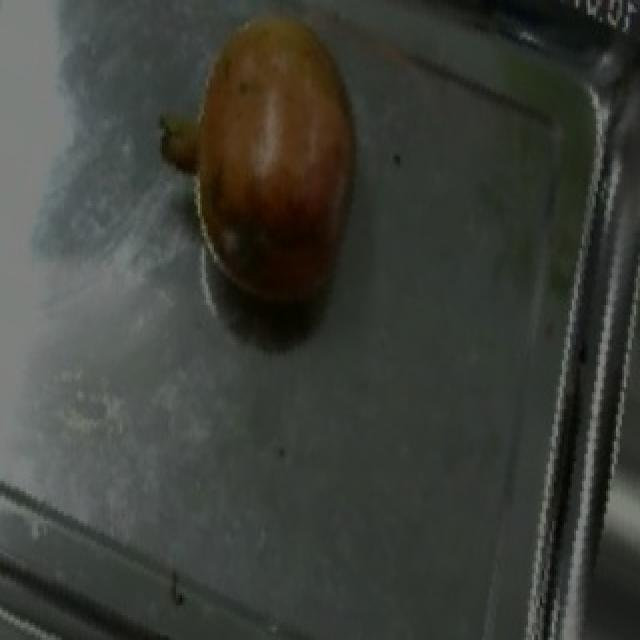fruit: (152, 47, 378, 333)
